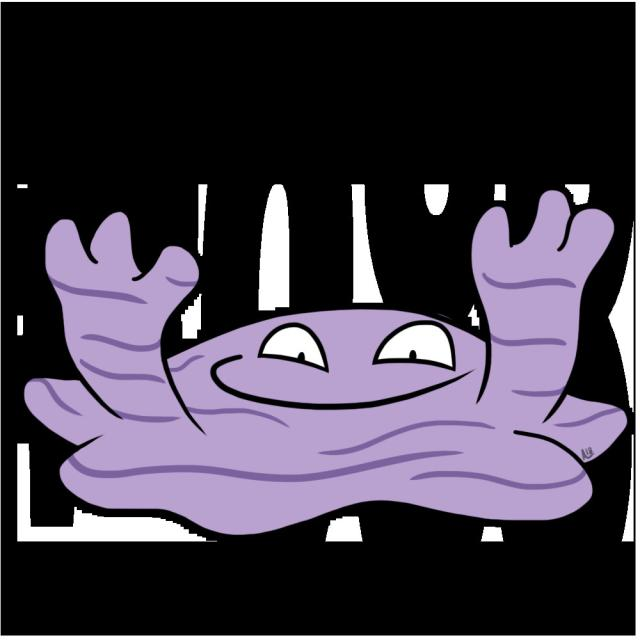Grimer: (71, 249, 590, 520)
